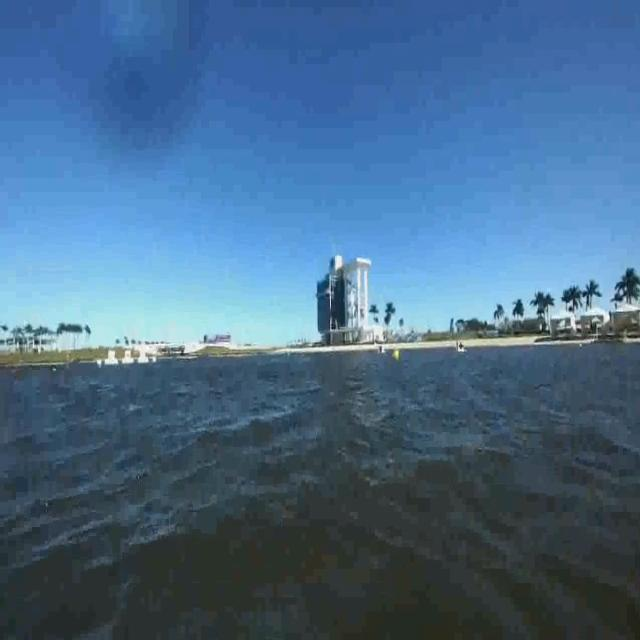yellow-buoy: (392, 348, 400, 362)
